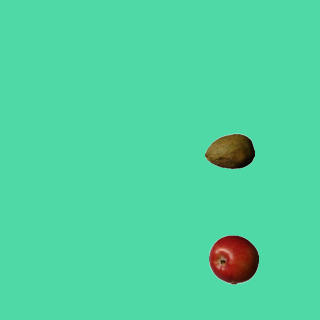Apple Braeburn: (208, 234, 258, 284)
Papaya: (204, 126, 254, 176)
